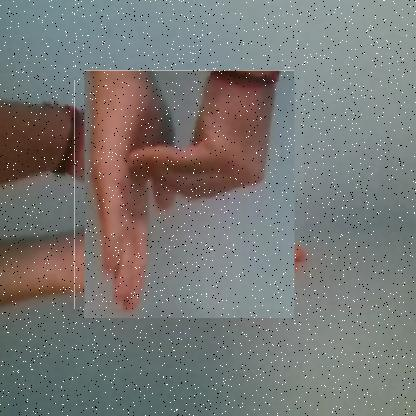Z: (74, 80, 305, 310)
